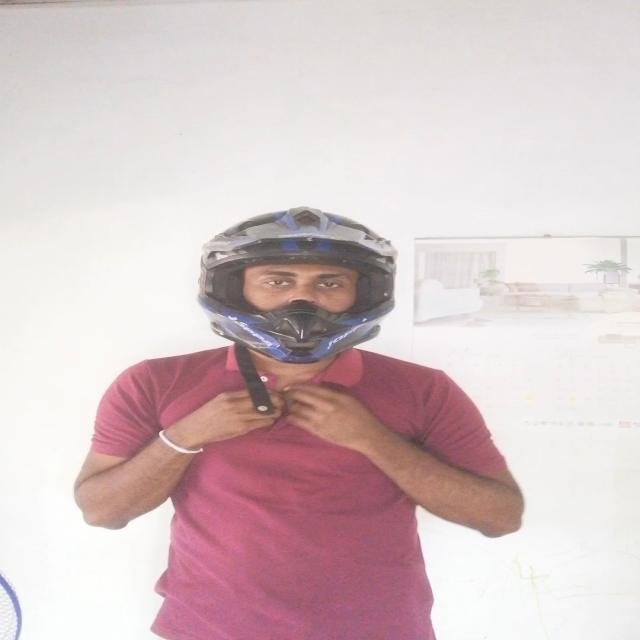Helmet_Wearer: (185, 197, 406, 389)
Person: (56, 203, 518, 640)
